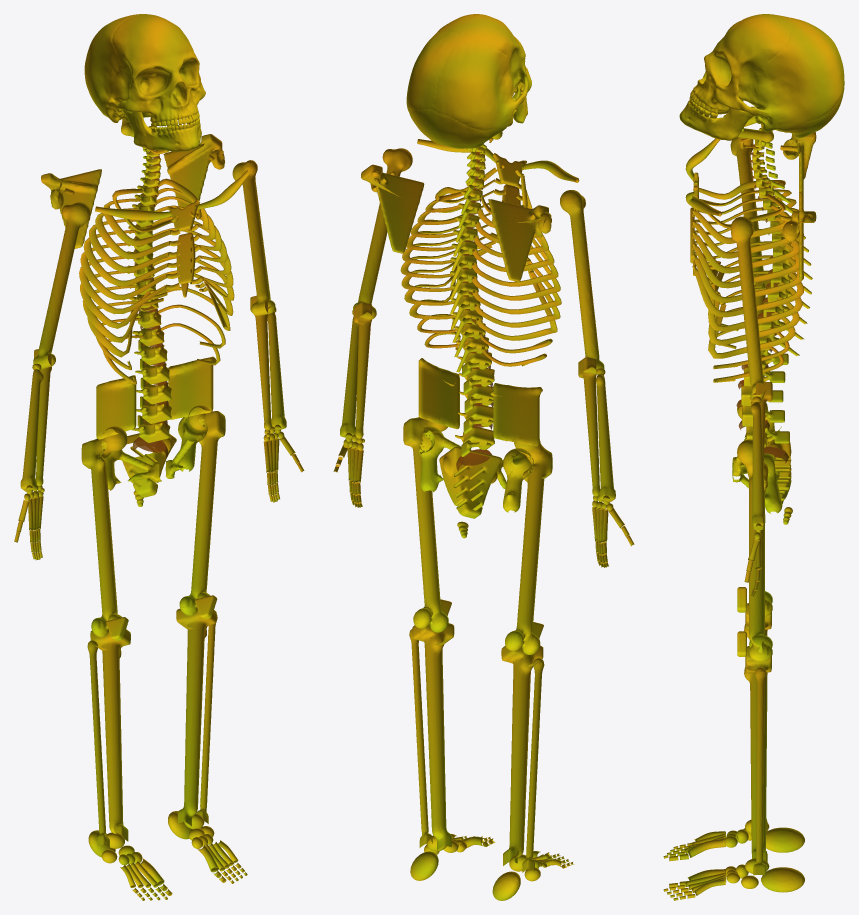
The model's file is explore-skeleton.glb.
3 renders of one model, left to right at view 1: azimuth 30°, elevation 25°; view 2: azimuth 150°, elevation 25°; view 3: azimuth 270°, elevation 25°, orthographic. The views are drawn at different scales.
Parts seen in each view (by area): view 1: skull_cranium, femur_R, tibia_L, femur_L, hip_bone_L, tibia_R, hip_bone_R, humerus_R, humerus_L, scapula_L, scapula_R, fibula_R (+18 smaller); view 2: skull_cranium, hip_bone_R, femur_R, tibia_L, tibia_R, hip_bone_L, femur_L, scapula_R, scapula_L, humerus_R, sacrum, humerus_L (+16 smaller); view 3: skull_cranium, humerus_L, femur_L, tibia_L, fibula_L, radius_L, humerus_R, scapula_L, hip_bone_L, scapula_R, calcaneus_L, rib_L_07 (+17 smaller).
Part boxes in pixels (x1,y1,x2,y2): skull_cranium: (84,14,205,151); femur_R: (81,426,127,637); tibia_L: (176,607,216,826); femur_L: (179,405,225,615); hip_bone_L: (165,356,216,478); tibia_R: (90,629,130,841); hip_bone_R: (96,375,161,490); humerus_R: (33,202,90,369); humerus_L: (232,160,275,315); scapula_L: (163,134,224,207); scapula_R: (41,169,101,248); fibula_R: (87,640,109,848); skull_cranium: (406,14,531,148); hip_bone_R: (490,383,542,512); femur_R: (505,439,552,654); tibia_L: (412,623,454,850); tibia_R: (501,645,543,865); hip_bone_L: (418,358,461,492); femur_L: (403,417,448,632); scapula_R: (488,199,551,281); scapula_L: (361,164,424,253); humerus_R: (560,190,604,374); sacrum: (439,446,501,518); humerus_L: (353,148,412,319); skull_cranium: (679,14,844,140); humerus_L: (730,216,765,401); femur_L: (737,439,772,661); tibia_L: (744,646,771,861); fibula_L: (753,667,766,875); radius_L: (750,396,765,529); humerus_R: (730,137,765,291); scapula_L: (780,191,816,280); hip_bone_L: (732,402,782,513); scapula_R: (780,132,816,196); calcaneus_L: (761,867,804,892); rib_L_07: (694,268,803,317).
Bounding box in the file's own units: 0.6221 × 1.71 × 0.3279.
